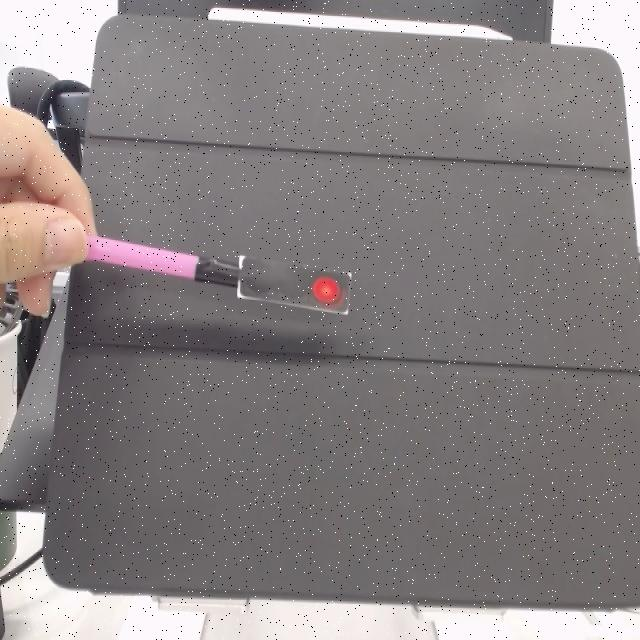traffic light: (236, 257, 361, 320)
